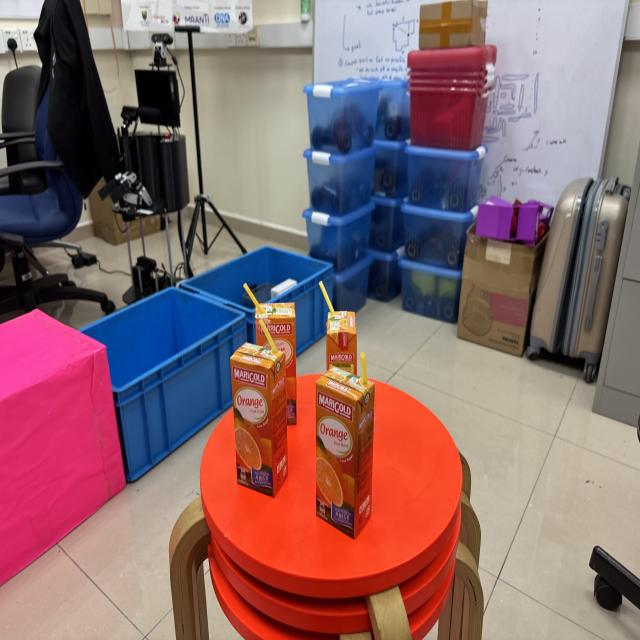drink_carton: (307, 347, 378, 548), (225, 313, 292, 501), (241, 272, 301, 435), (314, 279, 361, 386)
